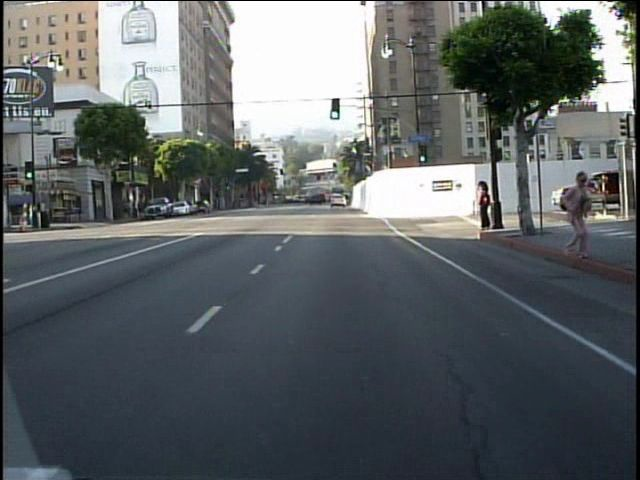person: (554, 169, 591, 263), (476, 180, 494, 235)
